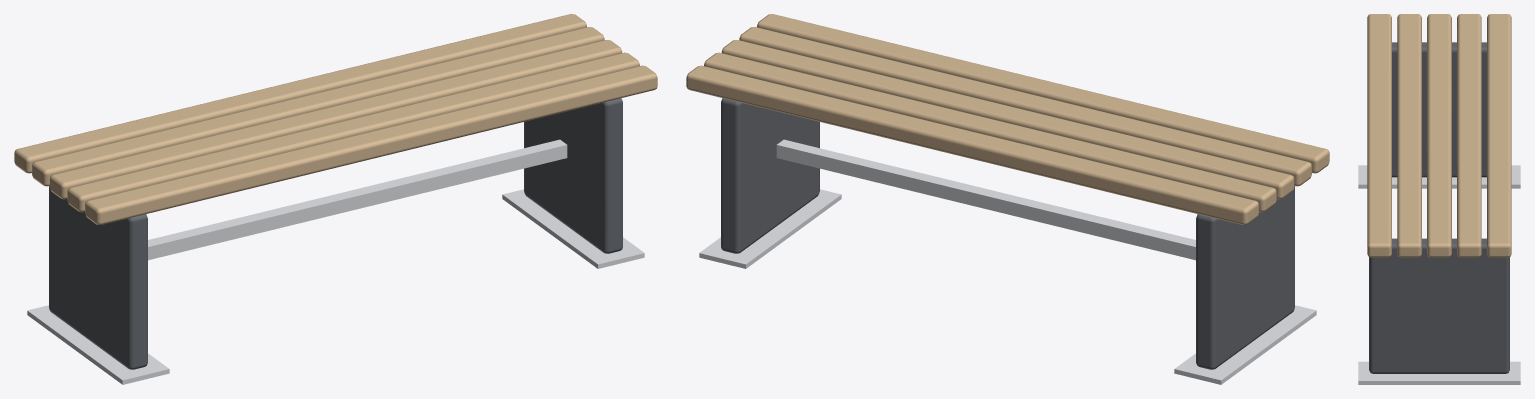
3 views of the same model, side by side, from view 1: azimuth 30°, elevation 25°; view 2: azimuth 150°, elevation 25°; view 3: azimuth 270°, elevation 25° (orthographic). The views are drawn at different scales.
Visible parts, largest first — view 1: gallery-bench; view 2: gallery-bench; view 3: gallery-bench.
Boxes of the visible parts, x1,y1,x2,y2 form: gallery-bench: (14, 14, 657, 384); gallery-bench: (686, 14, 1329, 384); gallery-bench: (1358, 14, 1520, 384).
Size of the model in its own units: 1.56 by 0.465 by 0.4601.
